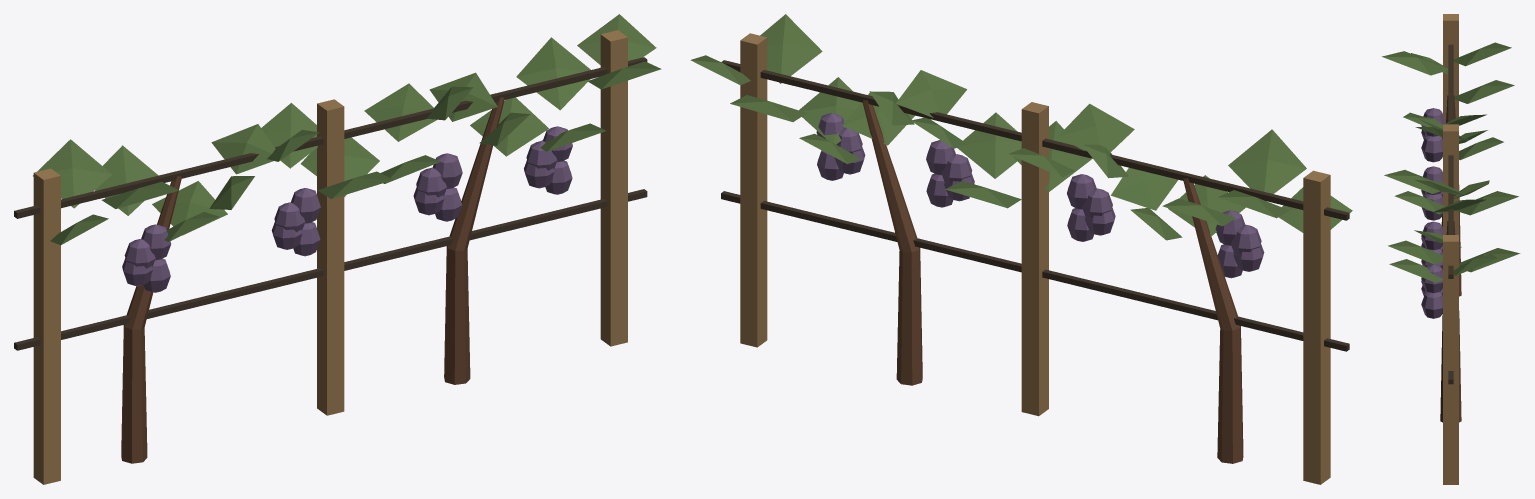
Rendered from Plant_Feature_Pastoral_VineyardRow_001.glb.
3 renders of one model, left to right at view 1: azimuth 30°, elevation 25°; view 2: azimuth 150°, elevation 25°; view 3: azimuth 270°, elevation 25°, orthographic. The views are drawn at different scales.
Visible parts, largest first — view 1: Plant_Feature_Pastoral_VineyardRow_001; view 2: Plant_Feature_Pastoral_VineyardRow_001; view 3: Plant_Feature_Pastoral_VineyardRow_001.
Boxes of the visible parts, bbox=[...] form: Plant_Feature_Pastoral_VineyardRow_001: bbox=[14, 14, 661, 484]; Plant_Feature_Pastoral_VineyardRow_001: bbox=[690, 14, 1352, 484]; Plant_Feature_Pastoral_VineyardRow_001: bbox=[1382, 14, 1520, 484].
Size of the model in its own units: 4.09 by 1.85 by 0.9591.
